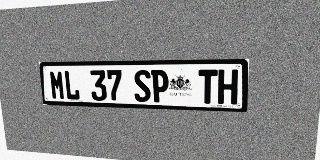3: (90, 70, 107, 101)
7: (106, 70, 123, 101)
H: (218, 69, 238, 105)
L: (63, 70, 80, 100)
M: (49, 70, 66, 100)
P: (151, 70, 169, 103)
S: (133, 70, 151, 102)
T: (198, 69, 218, 104)
